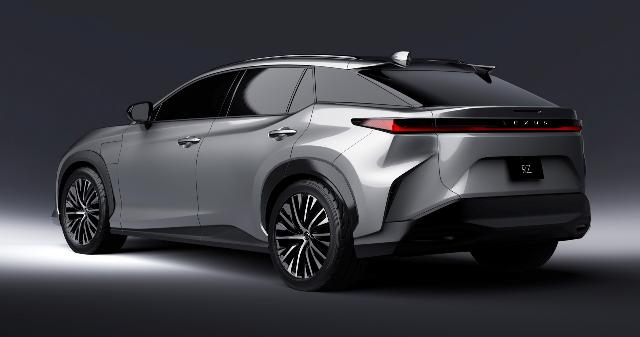lexus: (52, 50, 590, 292)
